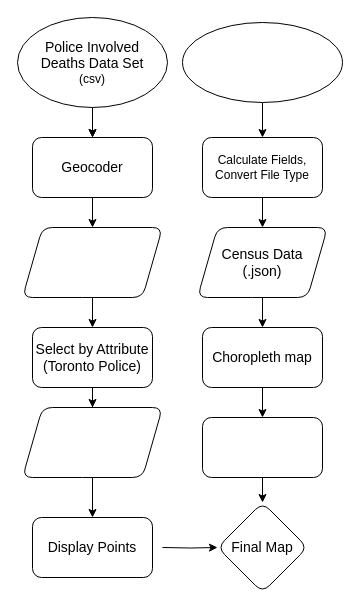
Image size: 360x610. Some labels were removed from this diagram. The shapes that lost their labels are listed below. From the top down, each one's centre as x and y in pixels, then its label:
point 262,62: Metro Toronto Census Tracts (shapefile)
point 92,262: Police Involved Deaths (Point Data)
point 92,442: Police Involved Deaths (Toronto)
point 262,447: Dynamic Text
